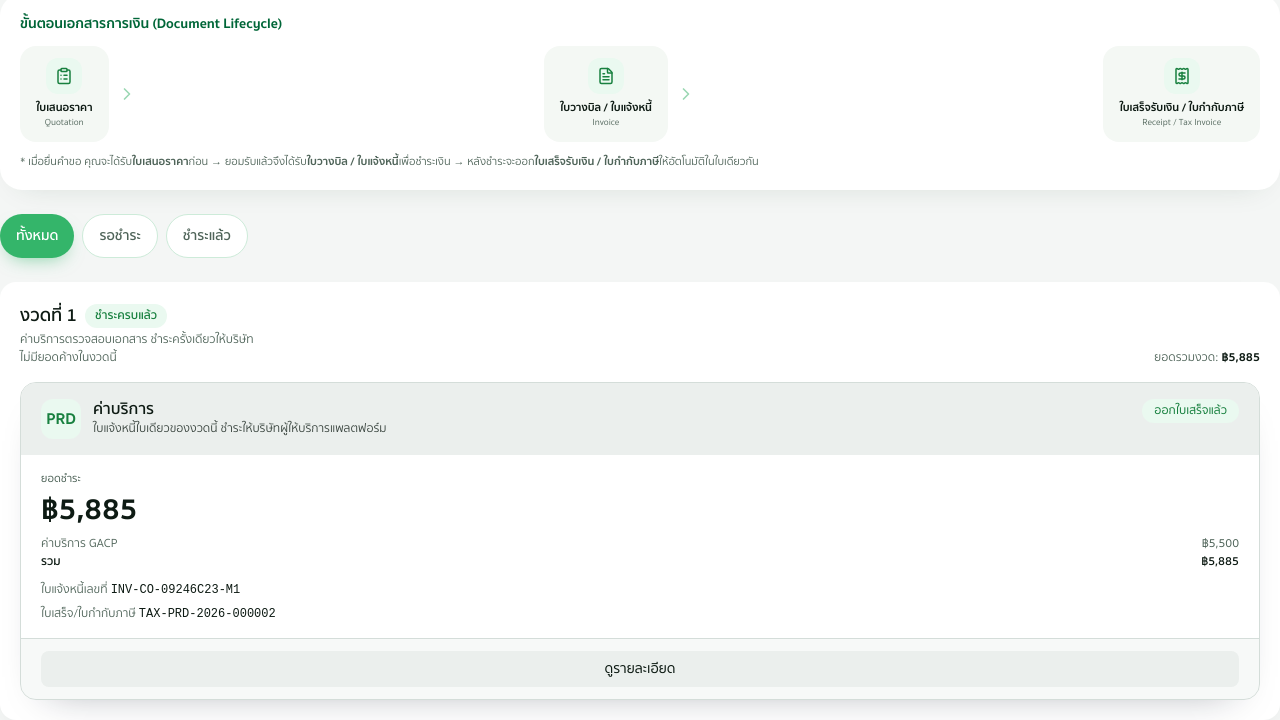
Test: /health/payments — applicant receipt, application number, workspace (walk 2026-09-29) › P1 — the paid invoice offers its receipt › a failed receipt download says so in Thai and names the receipt number
(page scrolled)
Click the button "ดูรายละเอียด".
click(640, 669)  # box [41,651,1239,687]
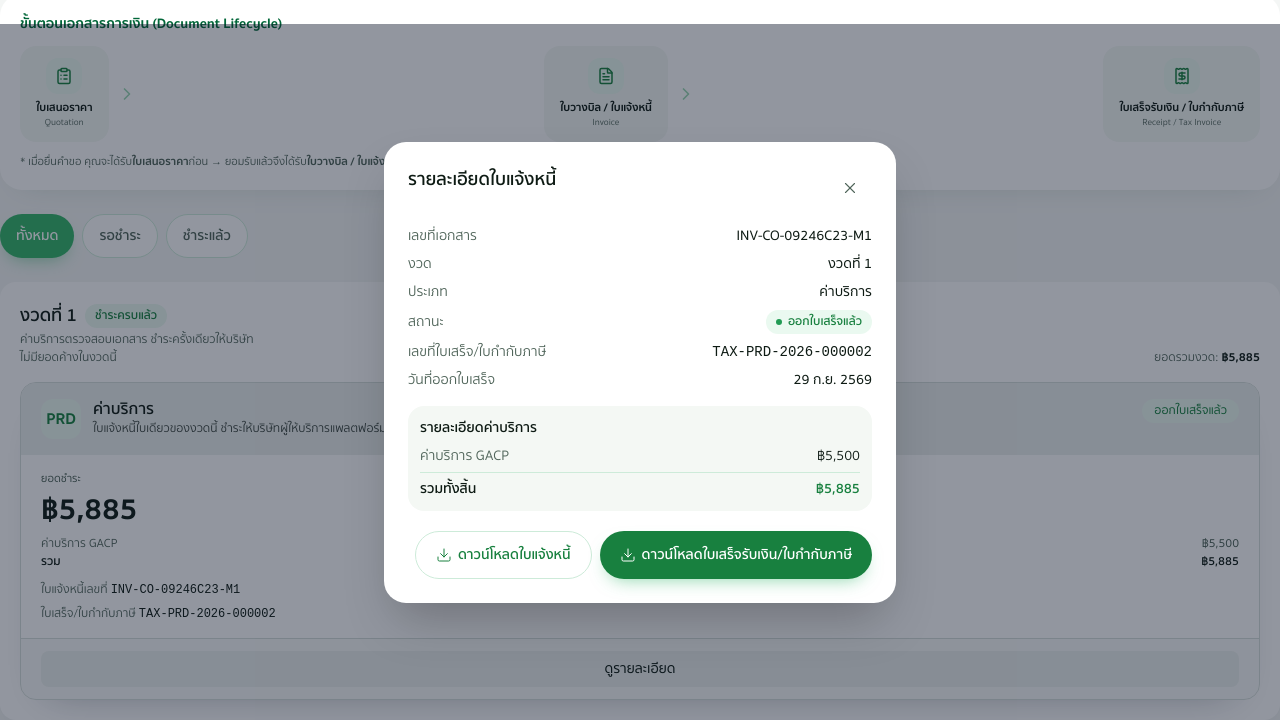
Check: the text "รายละเอียดใบแจ้งหนี้" is shown, box [408,166,556,194]
Click the button "ดาวน์โหลดใบเสร็จรับเงิน/ใบกำกับภาษี".
click(736, 554)  # box [600,530,872,578]
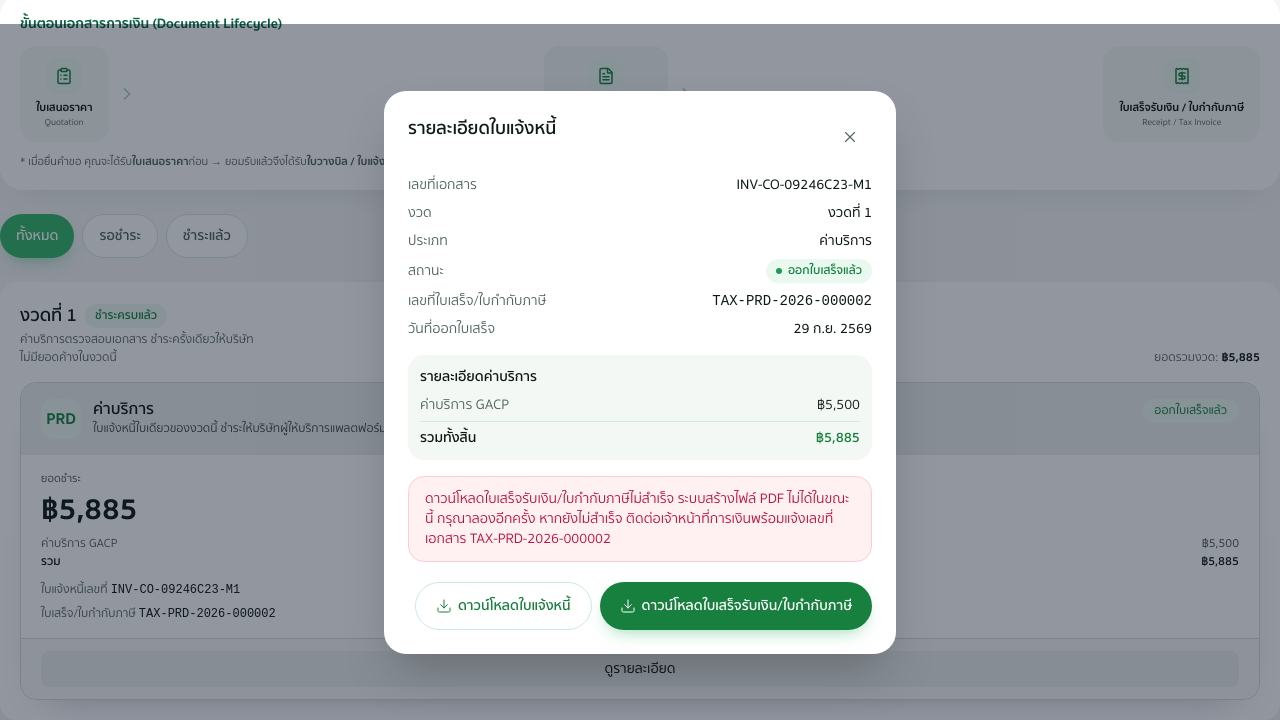
Check: the message shows "ดาวน์โหลดใบเสร็จรับเงิน/ใบกำกับภาษีไม่สำเร็จ", box [425,488,849,550]
Check: the message shows "TAX-PRD-2026-000002", box [425,488,849,550]
